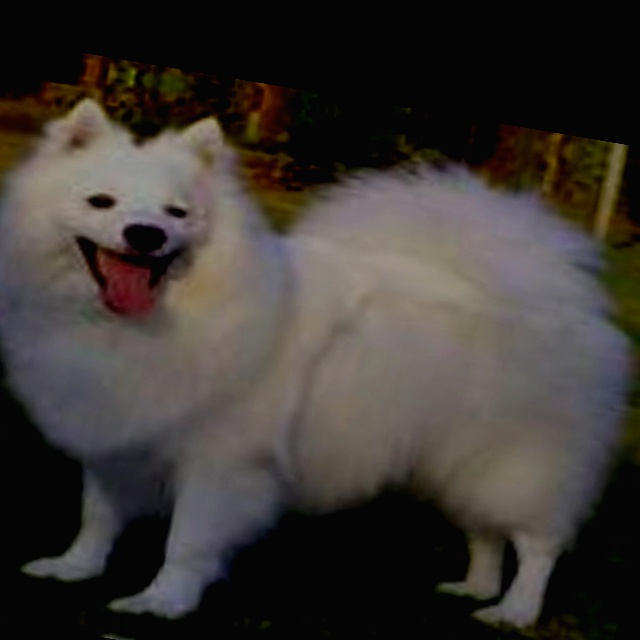dog: (0, 76, 640, 640)
